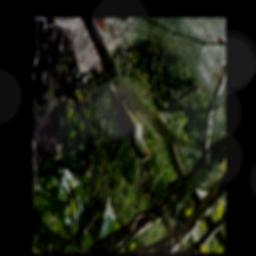Cuckoo: (100, 63, 154, 164)
